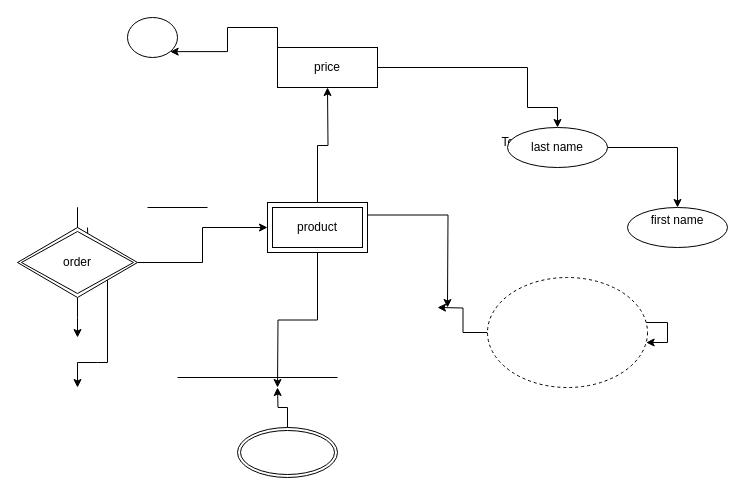
This 745x495 diagram has some shape labels left out. Each missing label, with the box of its shape:
countity: (236, 426, 338, 478)
prodouctname: (486, 276, 648, 388)
productid: (126, 16, 178, 58)
